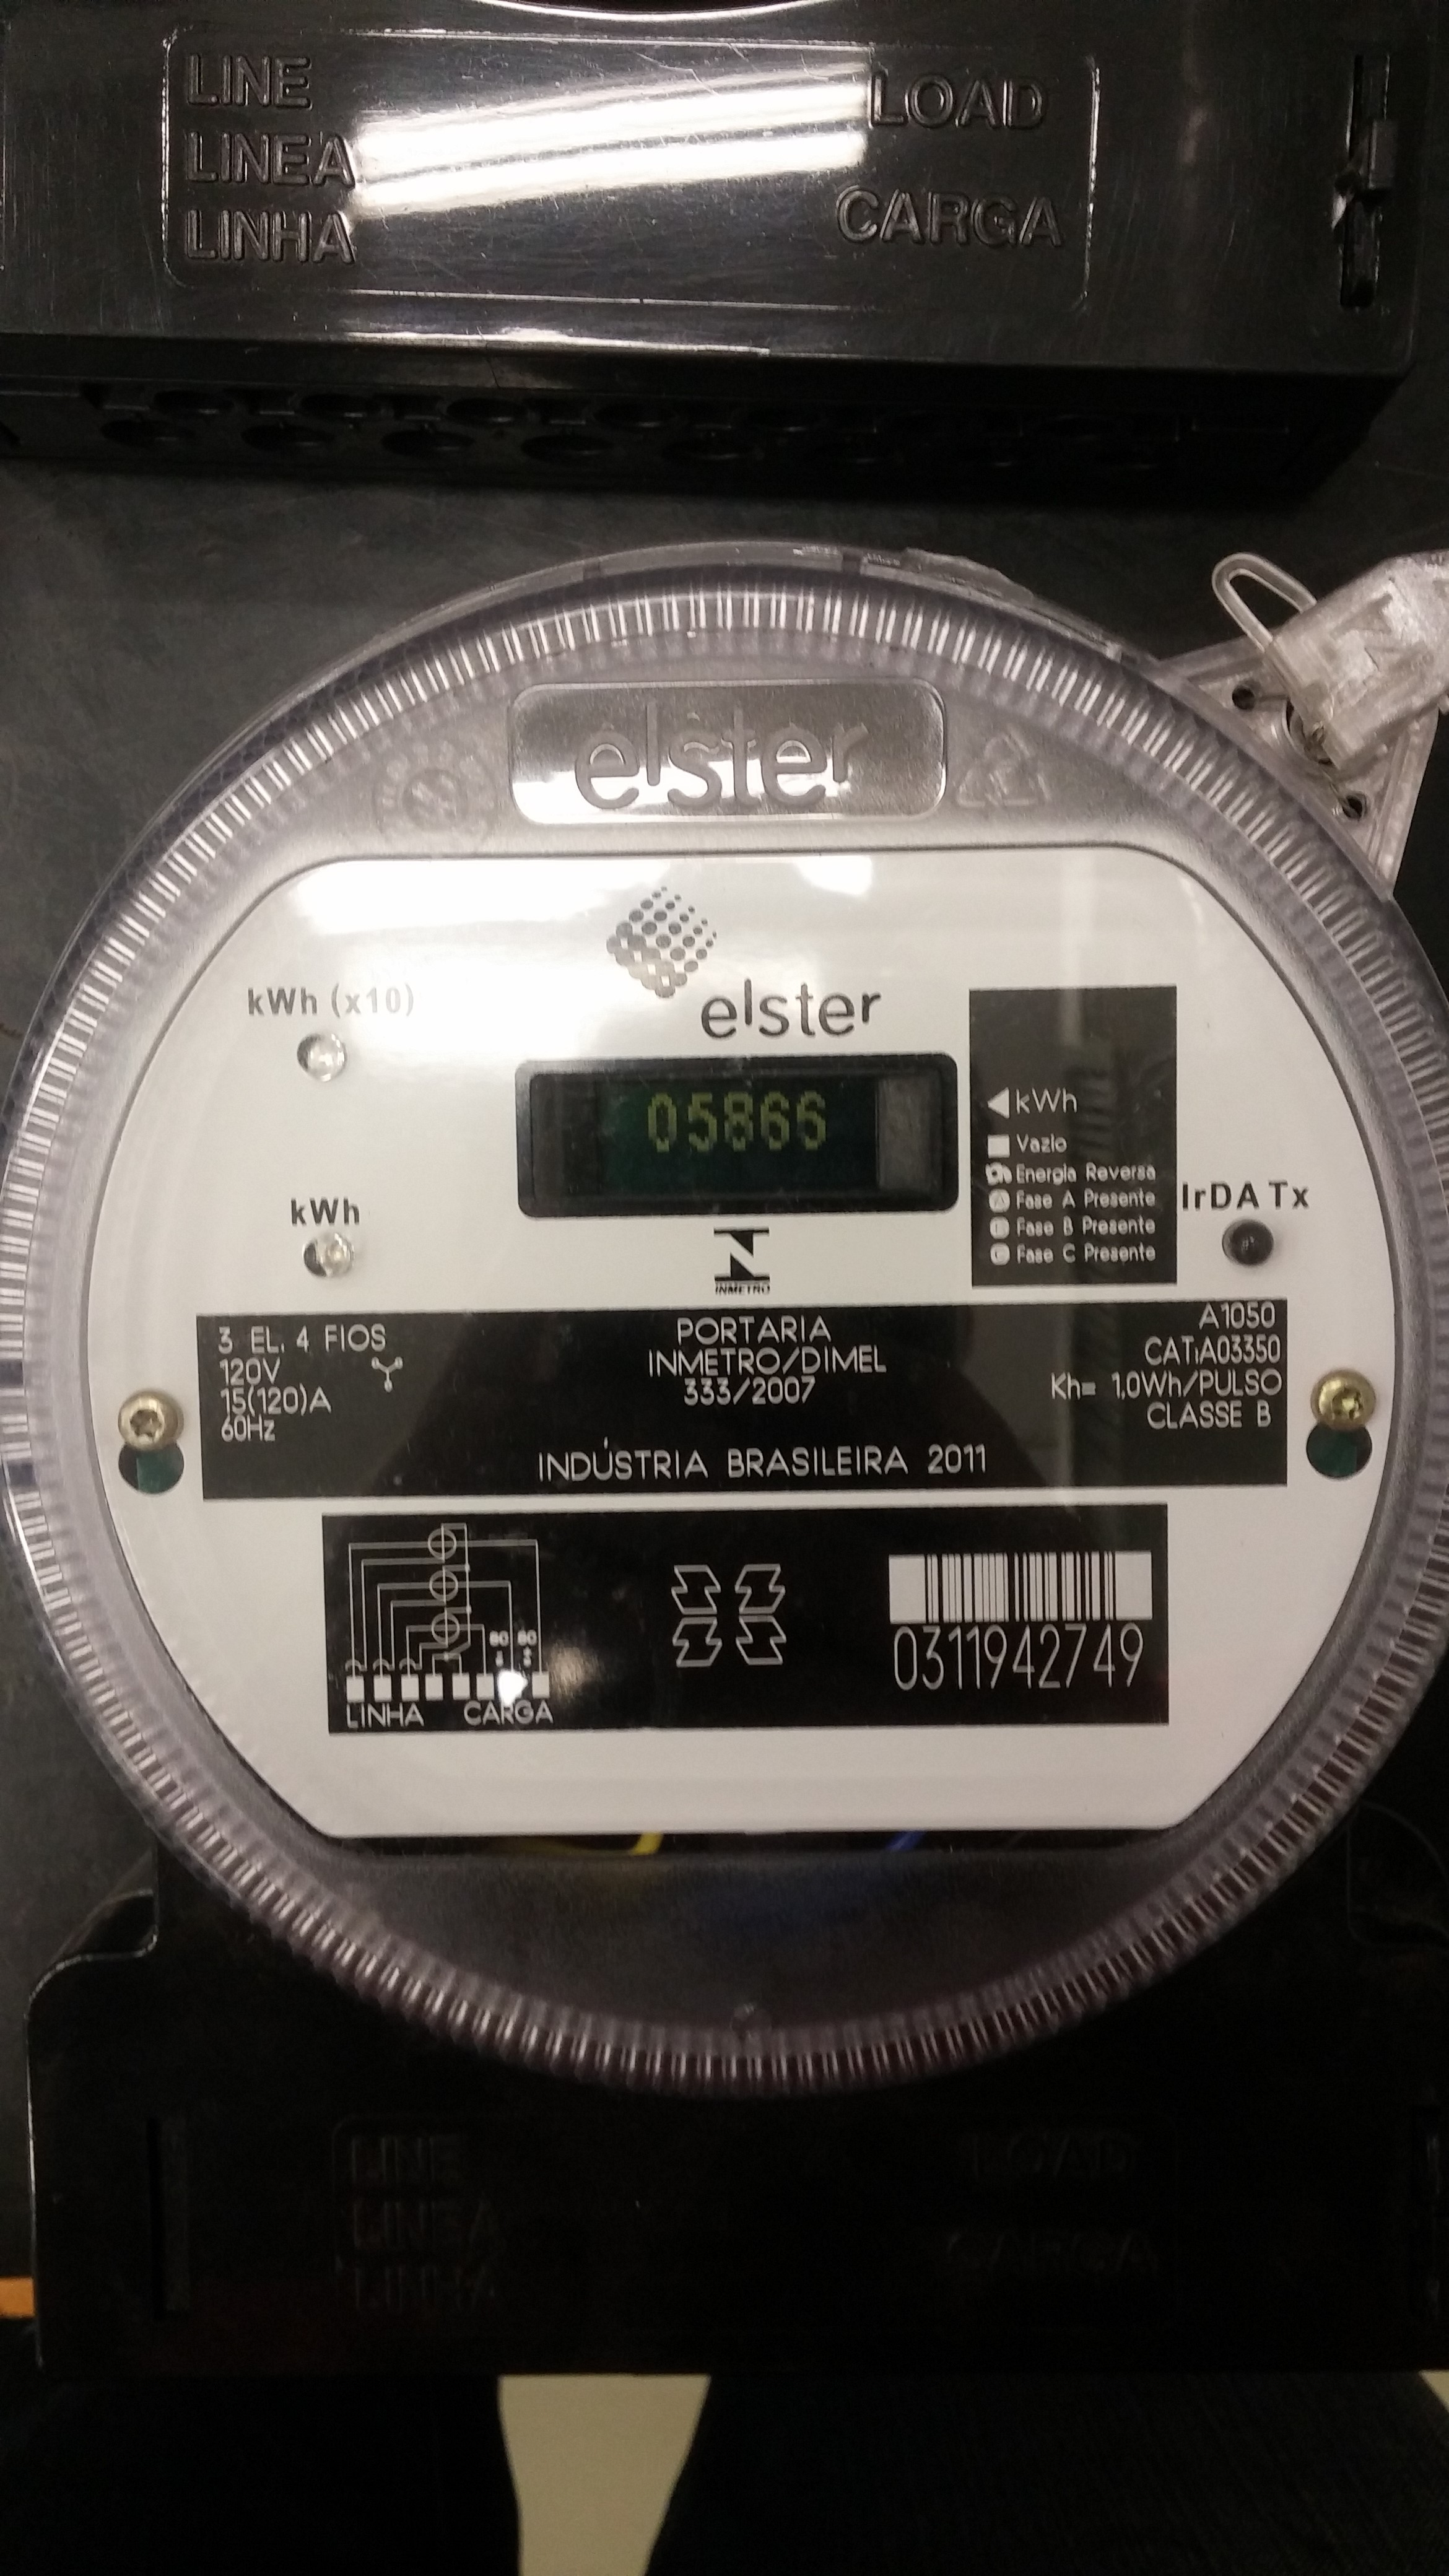counter: (531, 1063, 886, 1185)
